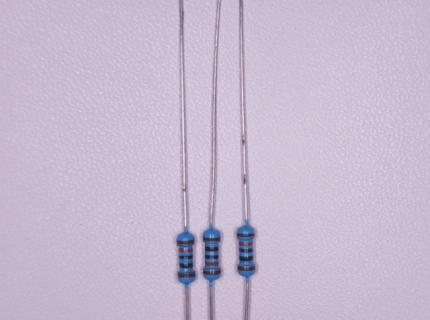Black band: (179, 255, 193, 260), (239, 256, 253, 261), (239, 248, 253, 253), (180, 263, 193, 268), (205, 254, 218, 259), (205, 246, 218, 251)
Brown band: (177, 272, 196, 278), (176, 240, 194, 245), (203, 270, 221, 275), (237, 266, 255, 271), (237, 233, 254, 238), (203, 237, 220, 241)
Orange band: (239, 241, 253, 246), (179, 248, 193, 252), (205, 262, 218, 265)
